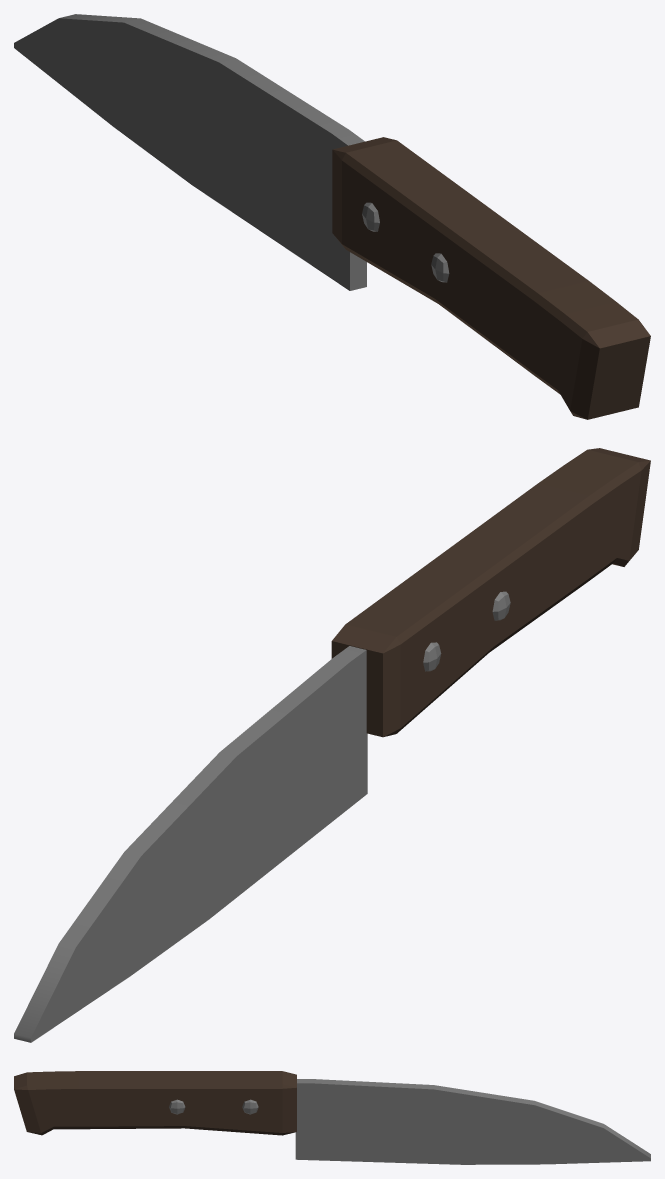
The model's file is Нож.fbx.
3 renders of one model, top to bottom at view 1: azimuth 30°, elevation 25°; view 2: azimuth 150°, elevation 25°; view 3: azimuth 270°, elevation 25°, orthographic. The views are drawn at different scales.
Parts seen in each view (by area): view 1: Cube.001; view 2: Cube.001; view 3: Cube.001.
Part boxes in pixels (x1=…): Cube.001: x1=14, y1=14, x2=650, y2=419; Cube.001: x1=14, y1=448, x2=650, y2=1042; Cube.001: x1=14, y1=1071, x2=650, y2=1164.
Size of the model in its own units: 13.5 by 28.95 by 196.
